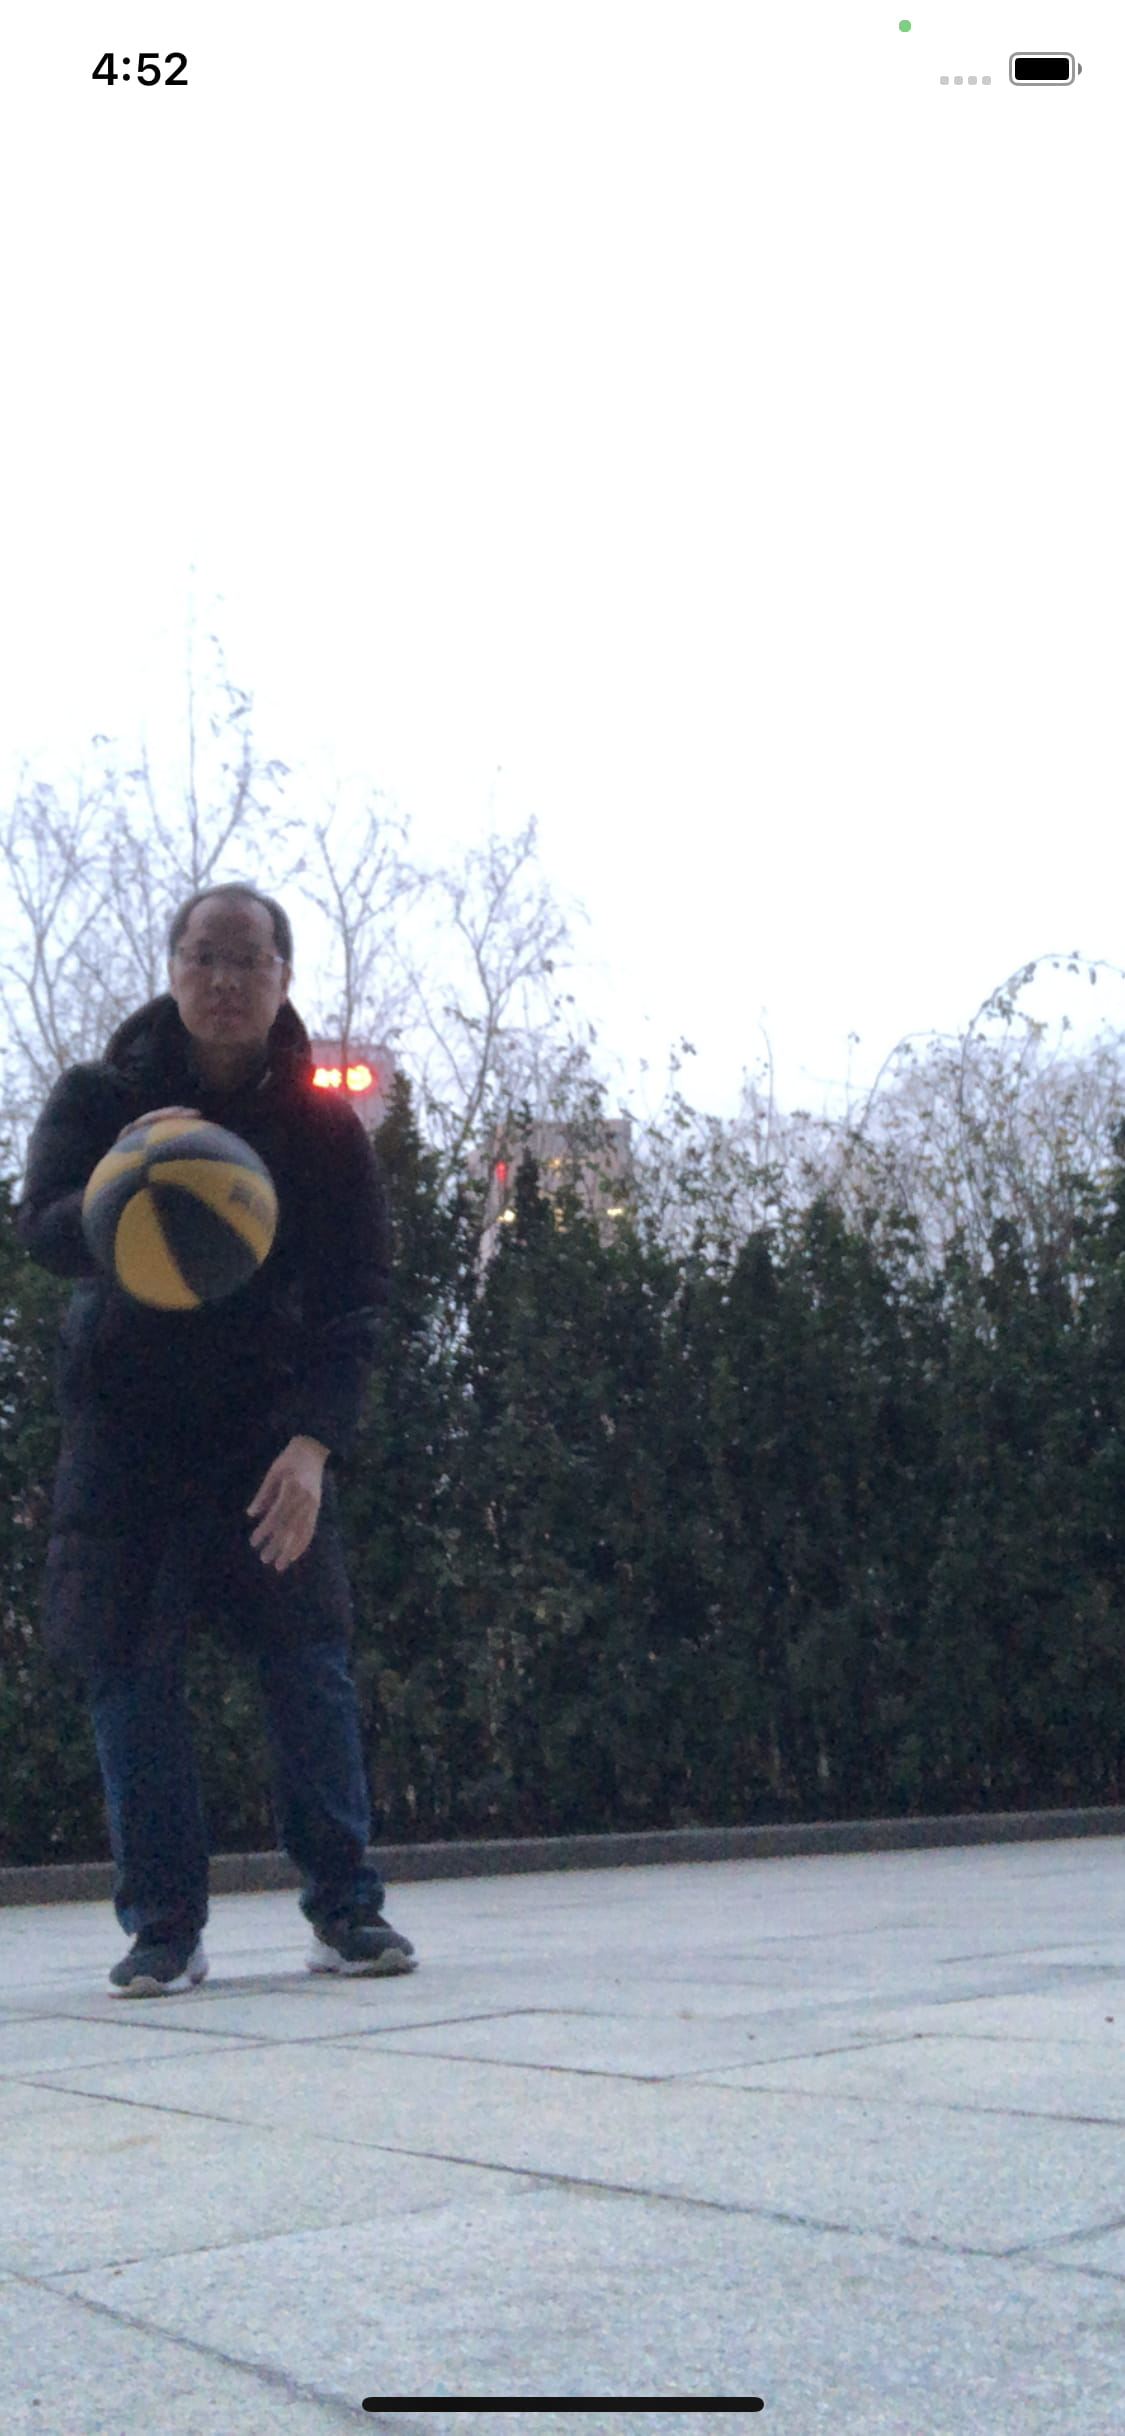ball: (78, 1112, 283, 1313)
